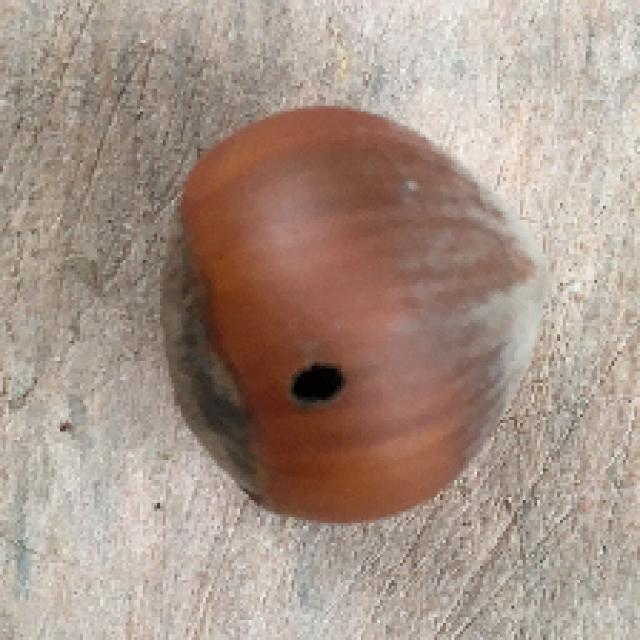damagedHazelnut: (159, 103, 560, 527)
